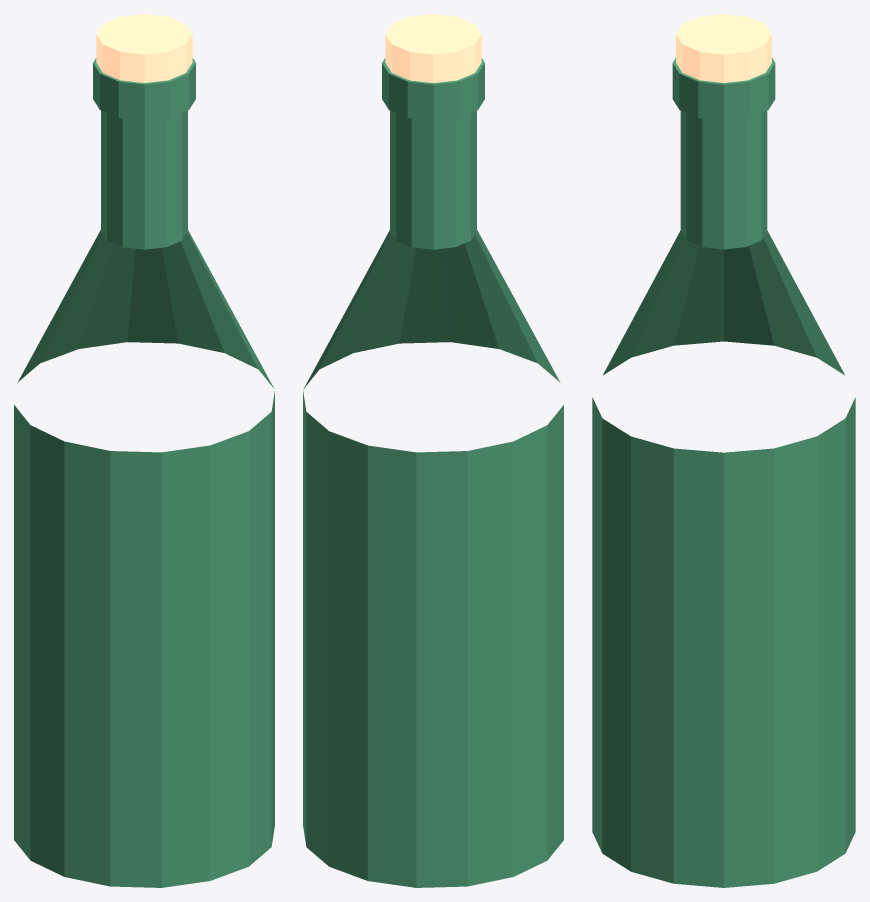
Rendered from bottle.glb.
3 views of the same model, side by side, from view 1: azimuth 30°, elevation 25°; view 2: azimuth 150°, elevation 25°; view 3: azimuth 270°, elevation 25° (orthographic).
Visible parts, largest first — view 1: glass, cap; view 2: glass, cap; view 3: glass, cap.
Boxes of the visible parts, left/top/right/bottom form: glass: left=14, top=58, right=274, bottom=887; cap: left=96, top=14, right=192, bottom=82; glass: left=303, top=58, right=563, bottom=887; cap: left=385, top=14, right=481, bottom=82; glass: left=592, top=58, right=855, bottom=887; cap: left=676, top=14, right=771, bottom=82.
Bounding box in the file's own units: 0.23 × 0.77 × 0.23.
